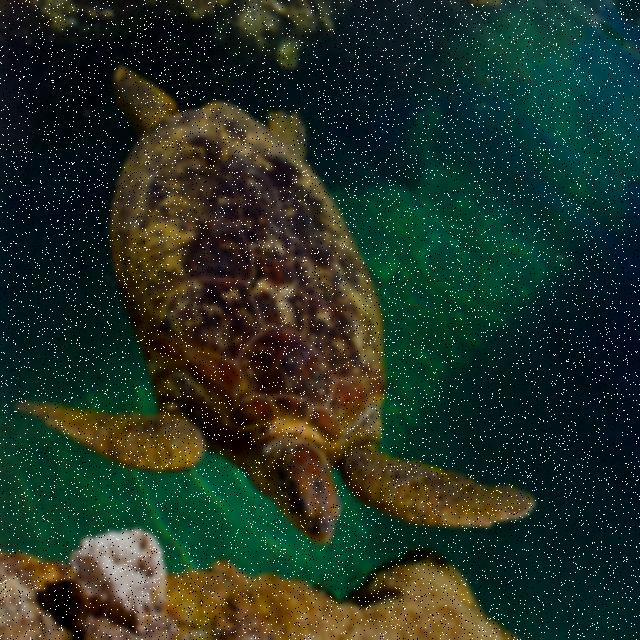tortoise: (55, 60, 543, 542)
